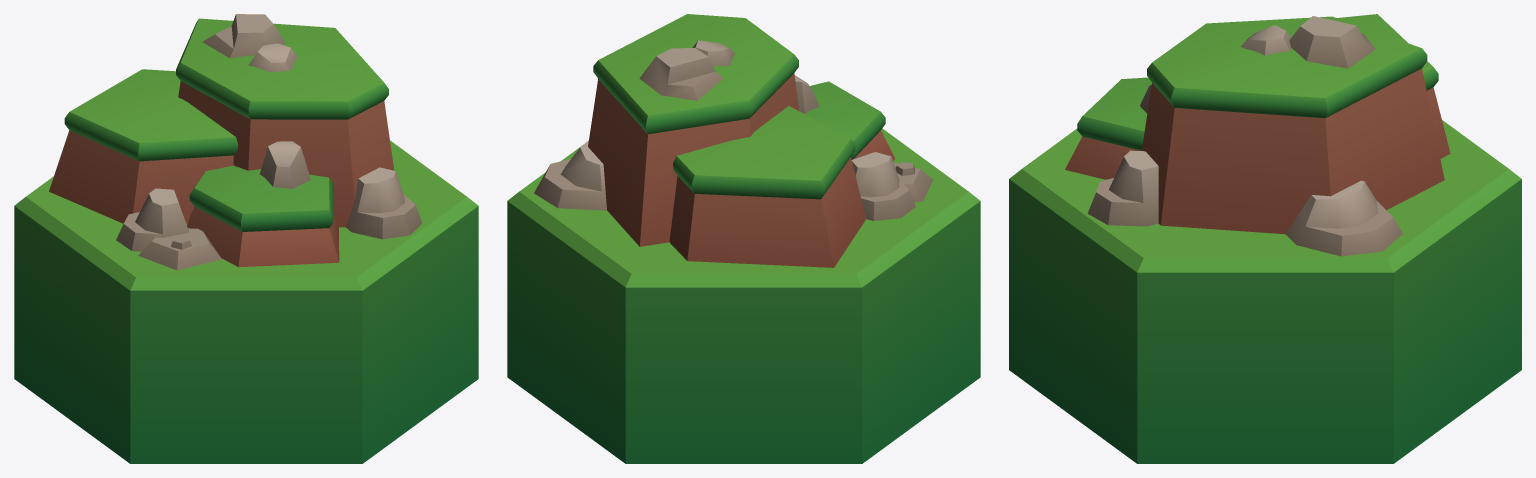
Rendered from hex_hills_a.glb.
3 views of the same model, side by side, from view 1: azimuth 30°, elevation 25°; view 2: azimuth 150°, elevation 25°; view 3: azimuth 270°, elevation 25° (orthographic). The views are drawn at different scales.
Parts seen in each view (by area): view 1: hex_hills_a; view 2: hex_hills_a; view 3: hex_hills_a.
Boxes of the visible parts, x1,y1,x2,y2 form: hex_hills_a: (14, 14, 478, 463); hex_hills_a: (507, 14, 980, 463); hex_hills_a: (1009, 14, 1521, 463).
Bounding box in the file's own units: 1 × 0.8971 × 1.15.
1 material, 1 textured.
